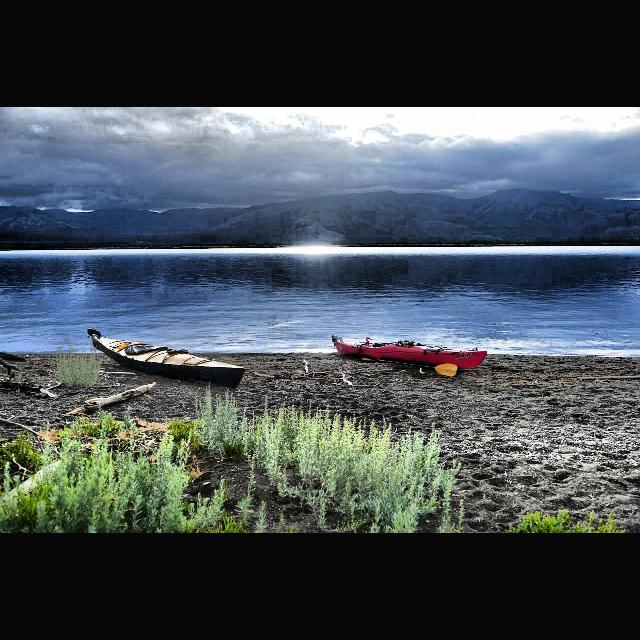kayak: (86, 327, 248, 391), (330, 332, 490, 372)
